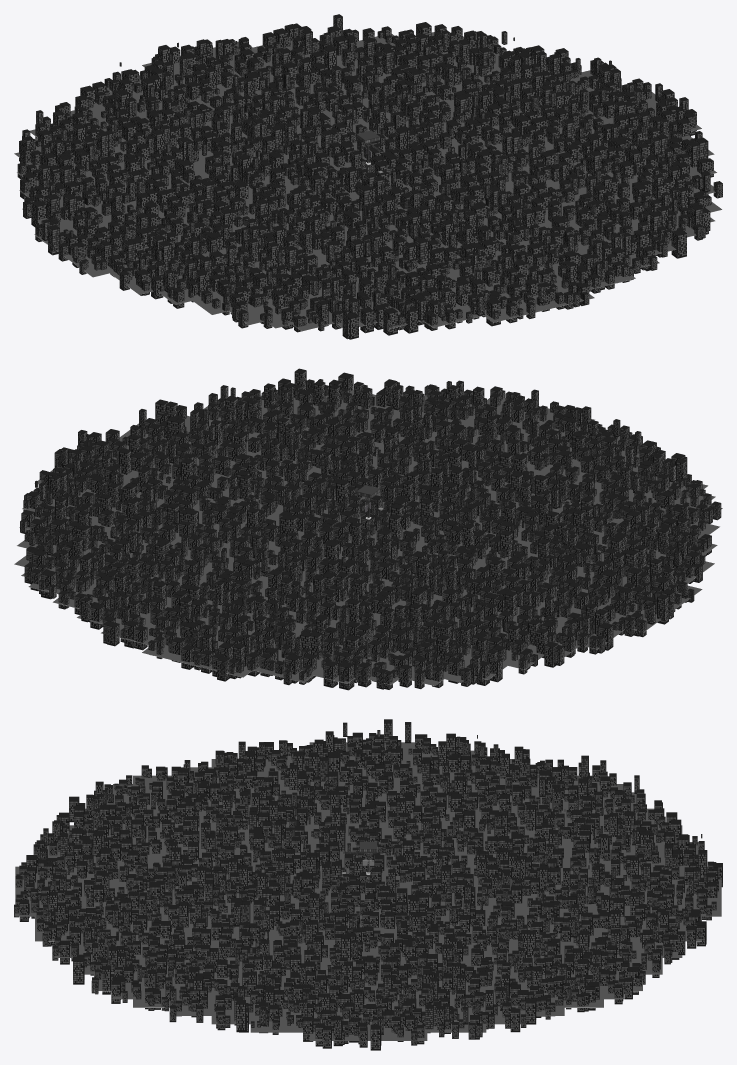
Rendered from предметы (2).glb.
3 views of the same model, one above another, from view 1: azimuth 30°, elevation 25°; view 2: azimuth 150°, elevation 25°; view 3: azimuth 270°, elevation 25° (orthographic).
Visible parts, largest first — view 1: Plane, Plane.001; view 2: Plane, Plane.001; view 3: Plane, Plane.001.
Boxes of the visible parts, box(x1,y1,x2,y2) form: Plane: box(14, 22, 722, 339); Plane.001: box(19, 14, 716, 329); Plane: box(14, 372, 722, 690); Plane.001: box(14, 368, 712, 685); Plane: box(14, 732, 722, 1050); Plane.001: box(24, 719, 713, 1039).
Bounding box in the file's own units: 357 × 58.02 × 354.
Materials: 12 (1 with a texture image).
